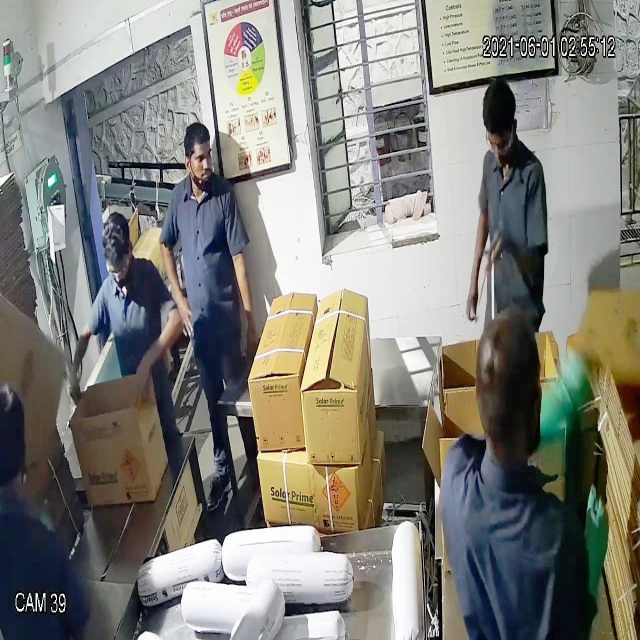Gafas: (98, 248, 133, 285), (483, 126, 518, 158)
